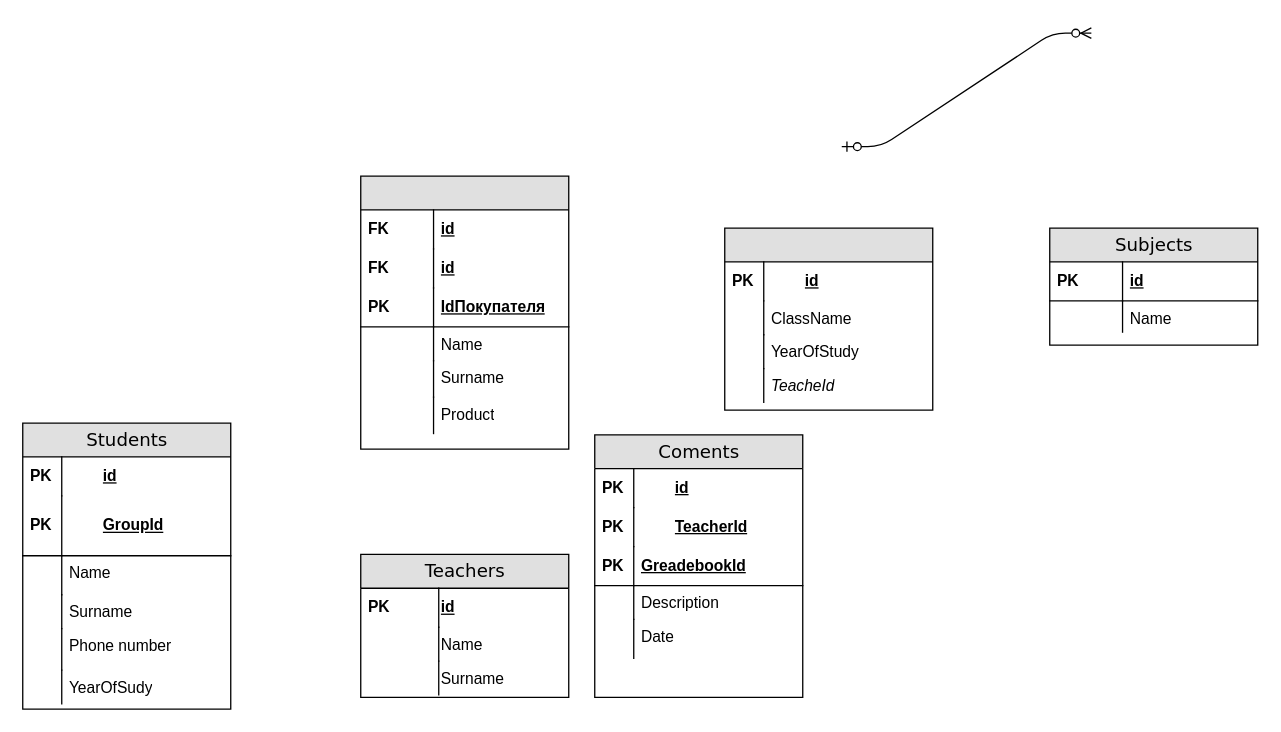
Image size: 1281x732. Some labels were removed from this diagram. Here are the shapes that lost their labels. From the top down, the box of each, then its label:
(359, 175, 569, 449): Booking
(723, 227, 933, 410): Groups
